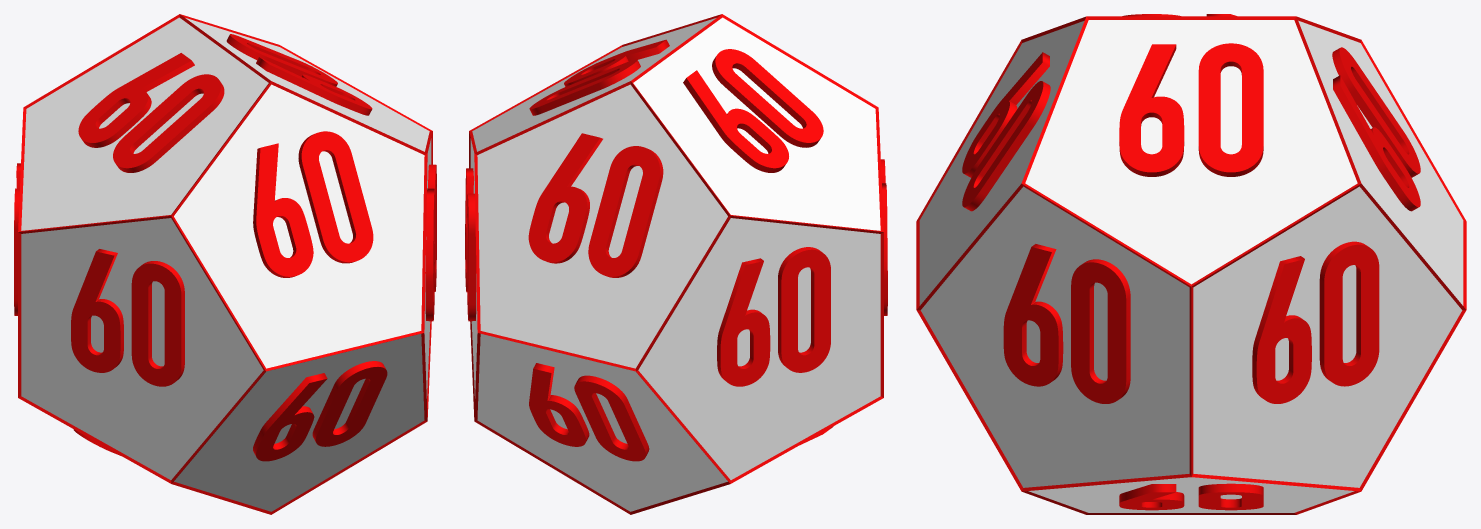
The model's file is dodecahedron_sign-60.glb.
3 views of the same model, side by side, from view 1: azimuth 30°, elevation 25°; view 2: azimuth 150°, elevation 25°; view 3: azimuth 270°, elevation 25° (orthographic). The views are drawn at different scales.
Parts seen in each view (by area): view 1: Dodecahedron_Solid, Text20_5, Text20_11, Dodecahedron_Wire, Text20_7, Text20_10, Text20_2, Text20_6, Text20_8; view 2: Dodecahedron_Solid, Text20_0, Text20_8, Dodecahedron_Wire, Text20_7, Text20_3, Text20_2, Text20_1, Text20_11; view 3: Dodecahedron_Solid, Dodecahedron_Wire, Text20_1, Text20_6, Text20_2, Text20_0, Text20_5, Text20_4.
Part boxes in pixels (bbox=[...]): Dodecahedron_Solid: bbox=[21, 17, 431, 511]; Text20_5: bbox=[253, 131, 373, 277]; Text20_11: bbox=[71, 249, 184, 386]; Dodecahedron_Wire: bbox=[18, 14, 432, 514]; Text20_7: bbox=[78, 53, 224, 172]; Text20_10: bbox=[253, 361, 387, 461]; Text20_2: bbox=[226, 34, 372, 115]; Text20_6: bbox=[425, 164, 436, 321]; Text20_8: bbox=[14, 163, 20, 315]; Dodecahedron_Solid: bbox=[470, 17, 880, 511]; Text20_0: bbox=[528, 133, 663, 277]; Text20_8: bbox=[717, 247, 830, 386]; Dodecahedron_Wire: bbox=[469, 14, 883, 514]; Text20_7: bbox=[683, 49, 823, 172]; Text20_3: bbox=[529, 363, 649, 461]; Text20_2: bbox=[529, 39, 669, 115]; Text20_1: bbox=[465, 168, 476, 321]; Text20_11: bbox=[881, 159, 887, 315]; Dodecahedron_Solid: bbox=[919, 20, 1463, 512]; Dodecahedron_Wire: bbox=[916, 16, 1466, 514]; Text20_1: bbox=[1252, 241, 1379, 403]; Text20_6: bbox=[1003, 244, 1130, 403]; Text20_2: bbox=[1119, 43, 1263, 176]; Text20_0: bbox=[1332, 47, 1420, 211]; Text20_5: bbox=[962, 52, 1050, 211]; Text20_4: bbox=[1119, 483, 1263, 510].
Bounding box in the file's own units: 3.26 × 3.26 × 3.26.
